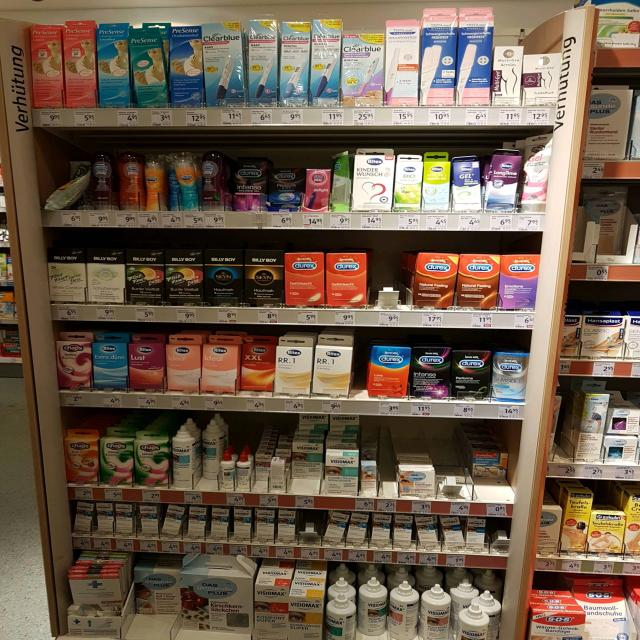empty: (366, 250, 414, 306), (437, 444, 469, 496), (374, 453, 398, 500)
